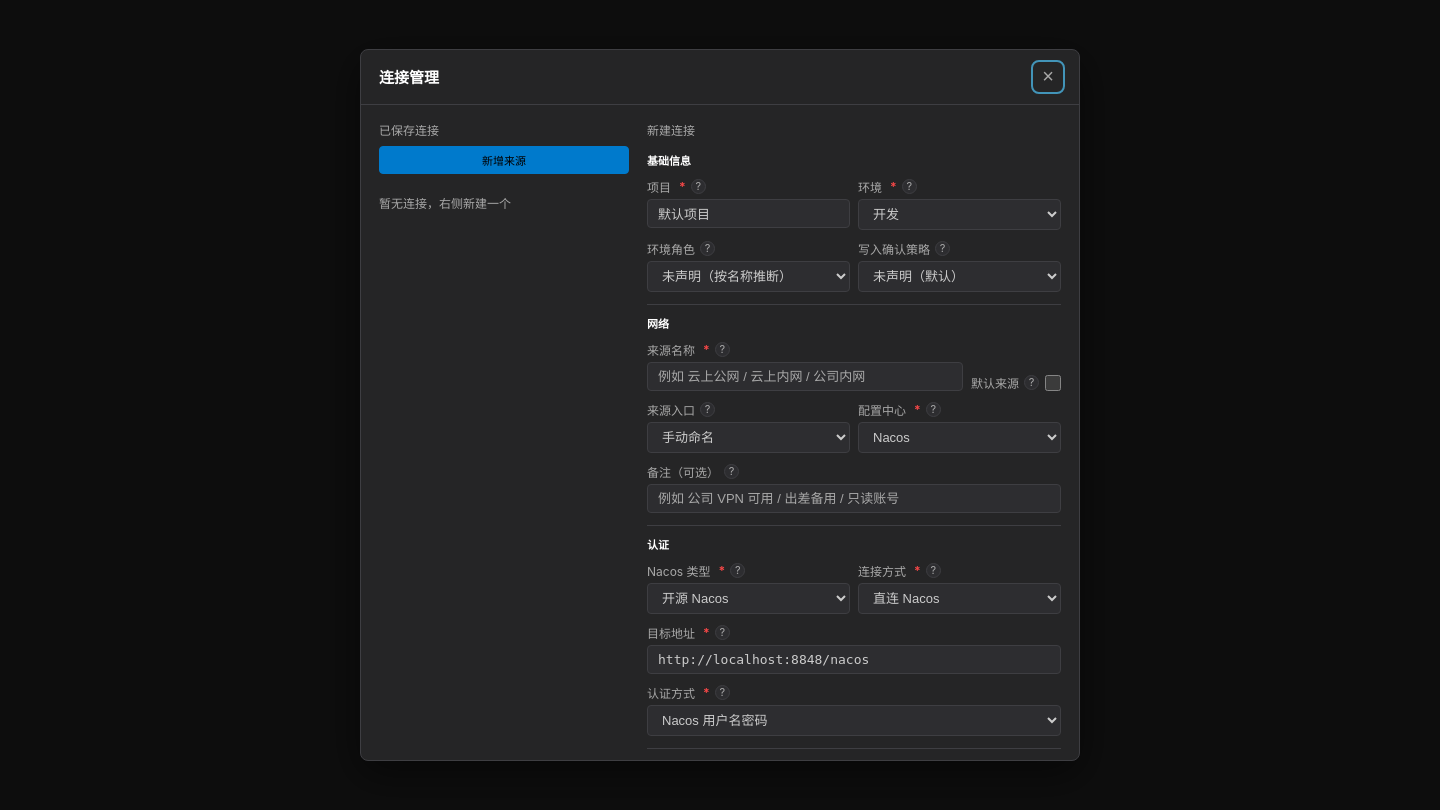
ConnectionManager › saves project environment and source metadata
Type "prod-public" into the field labelled "备注（可选） ?" at point(854, 498), box [647, 484, 1061, 513]
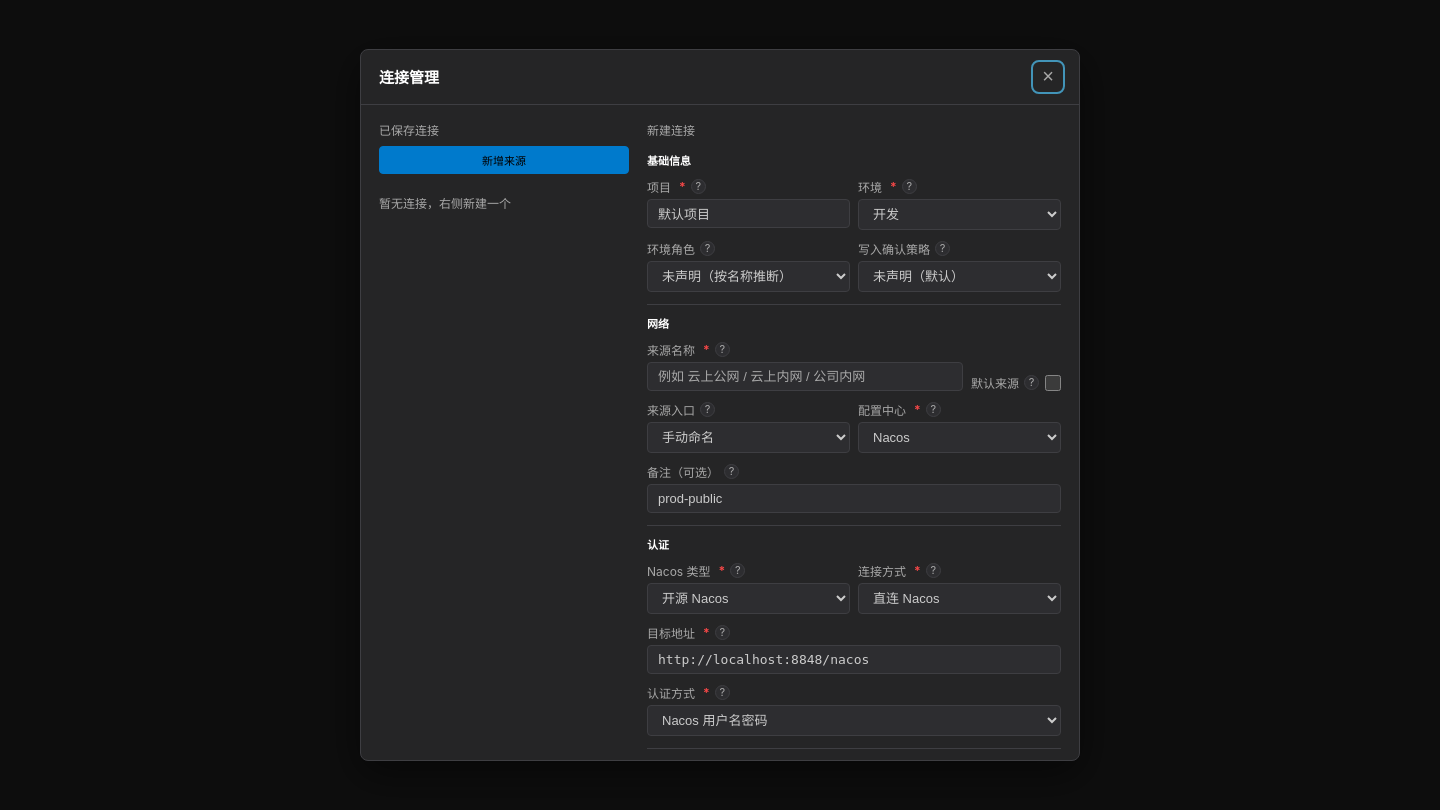
Replace the text in the field labelled "项目 * ?" with "订单系统" at point(748, 213), box [647, 199, 850, 228]
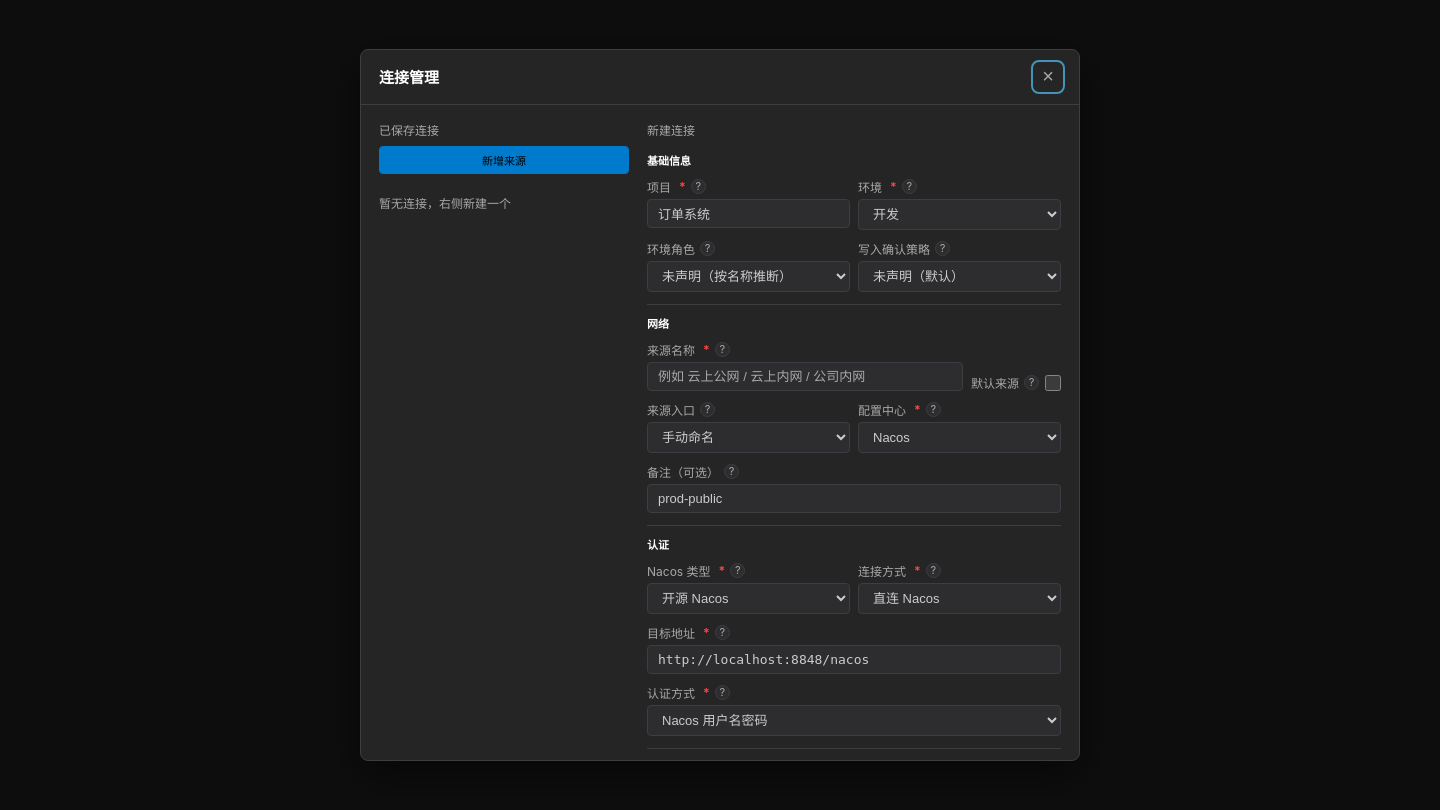
Select "生产" in the dropdown labelled "环境 * ?" at point(960, 214), box [858, 199, 1061, 230]
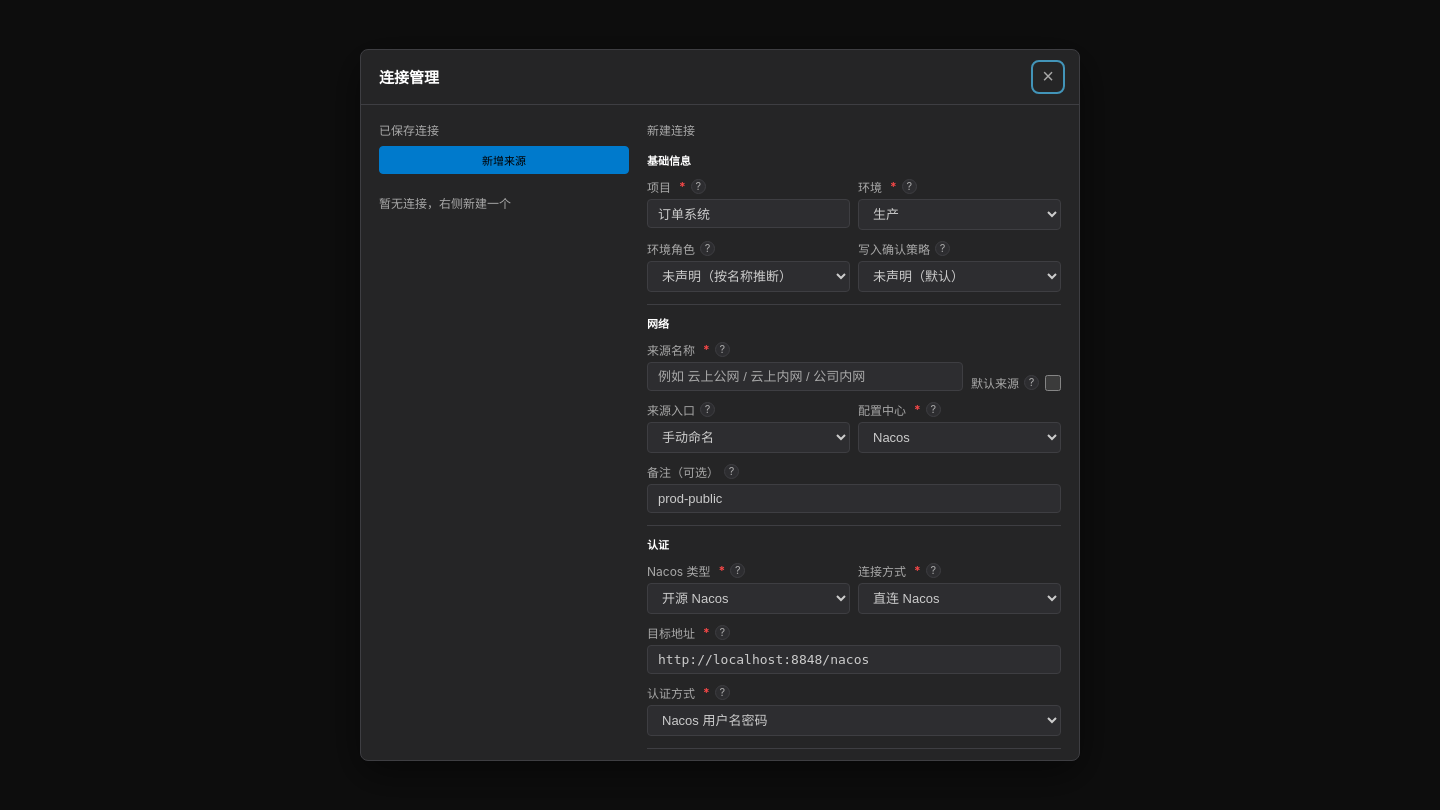
Type "云上公网" into the field labelled "来源名称 * ?" at point(805, 376), box [647, 362, 963, 391]
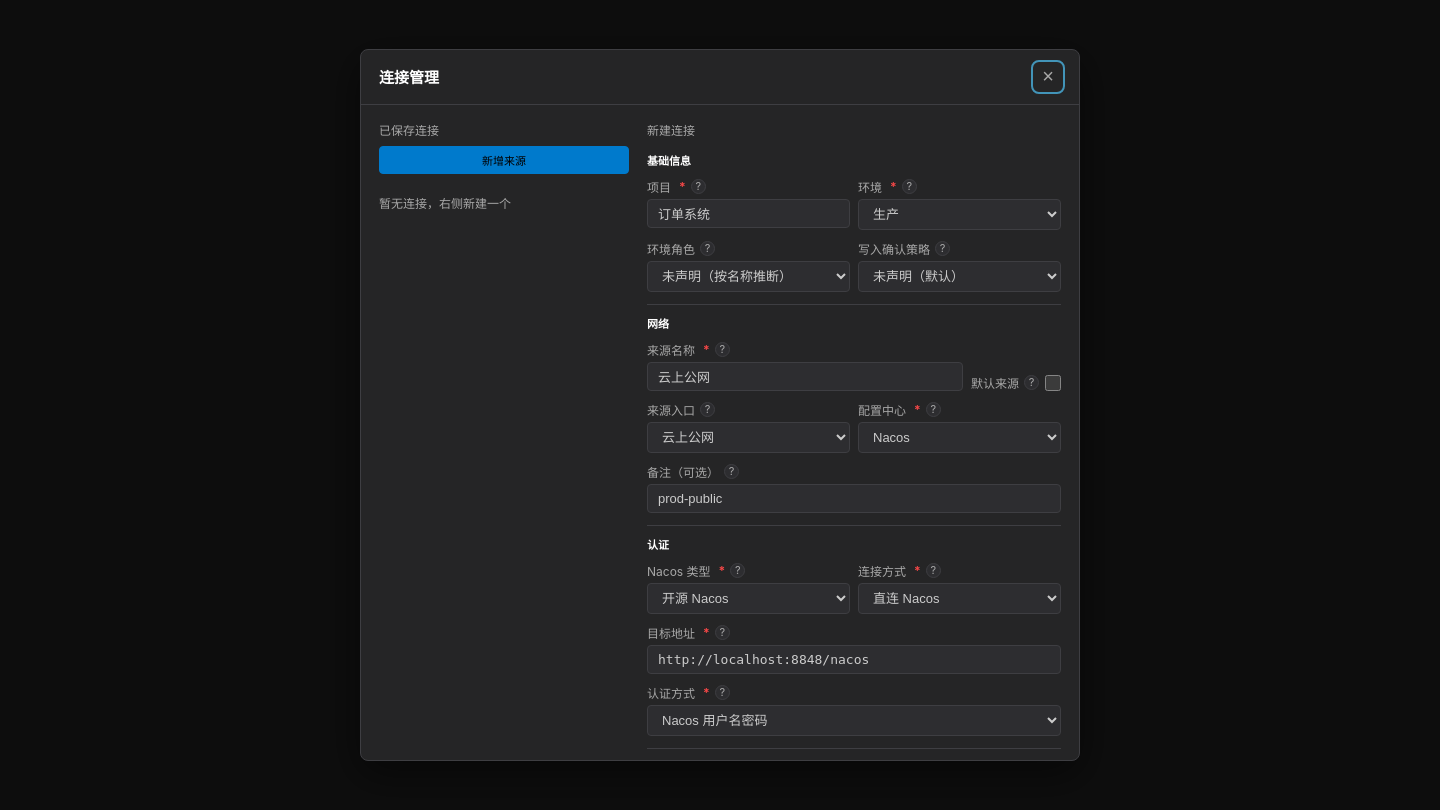
Type "https://prod.example.com/nacos" into the field labelled "目标地址 * ?" at point(854, 659), box [647, 645, 1061, 674]
(page scrolled)
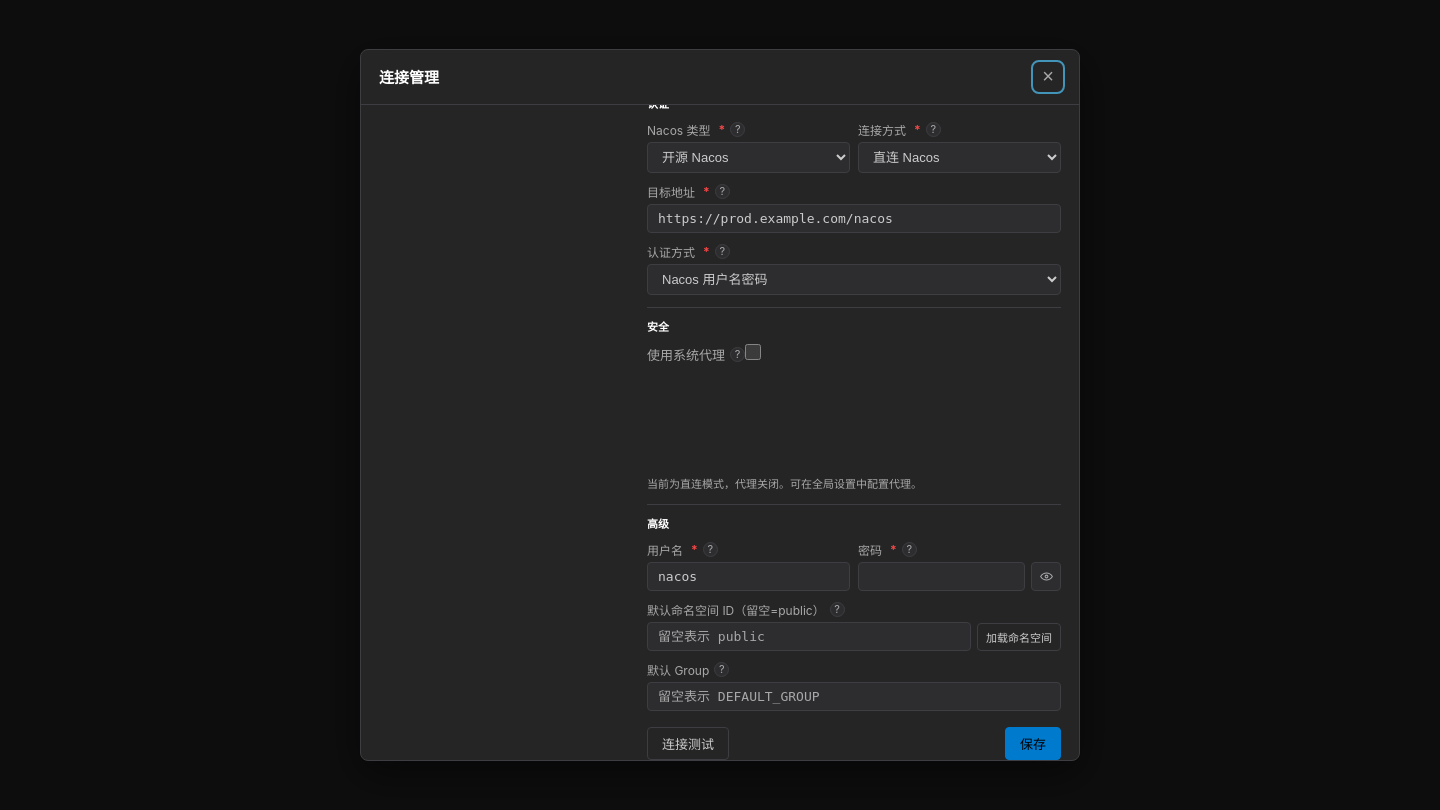
Click the button "保存" at point(1033, 744), box [1005, 727, 1061, 760]
(page scrolled)
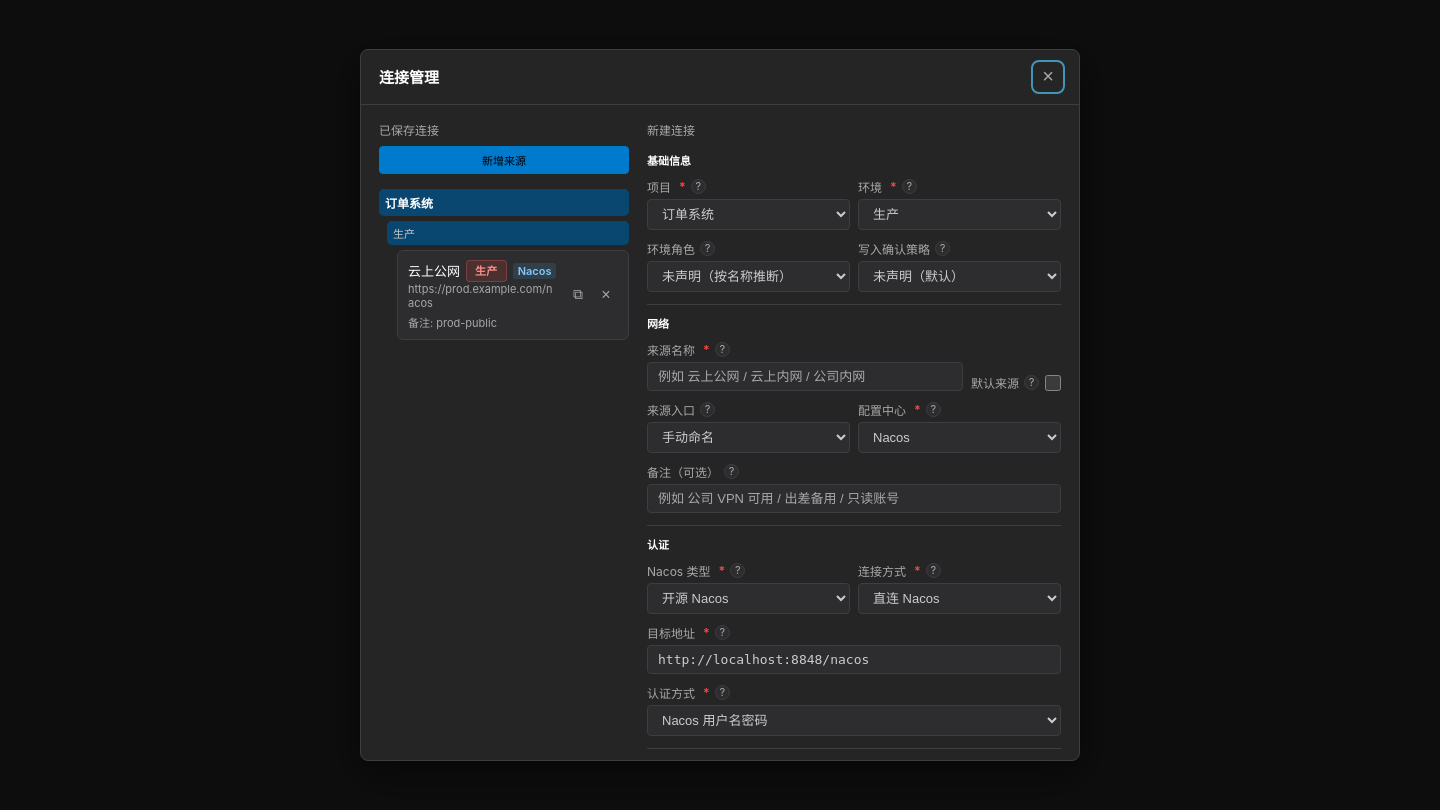
Now the text "订单系统" is shown, box [385, 196, 433, 211]
Now the text "云上公网" is shown, box [408, 263, 460, 279]
